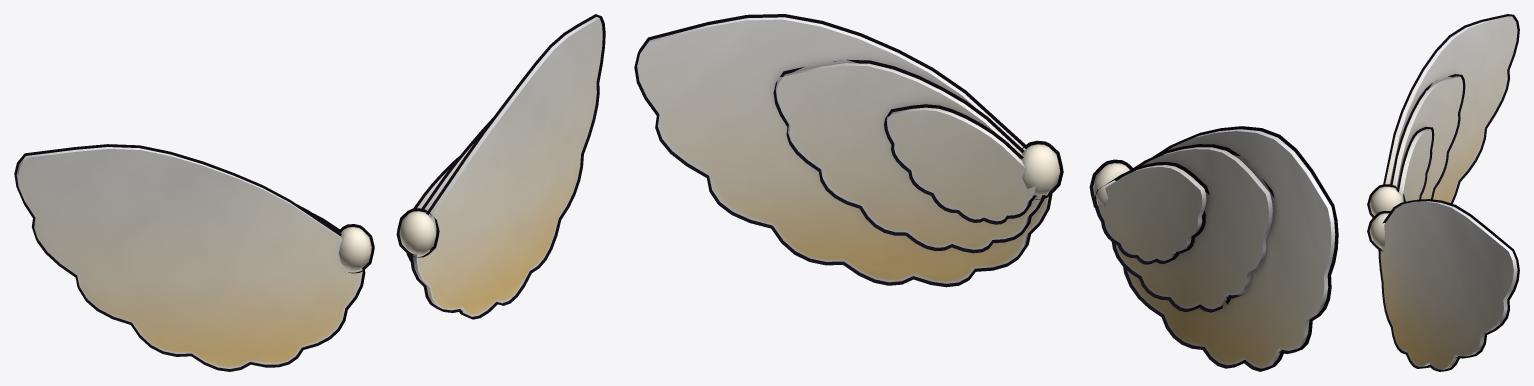
Rendered from AngelWings.fbx.
3 renders of one model, left to right at view 1: azimuth 30°, elevation 25°; view 2: azimuth 150°, elevation 25°; view 3: azimuth 270°, elevation 25°, orthographic. The views are drawn at different scales.
Parts seen in each view (by area): view 1: AngelWings, AngelWingsOutline; view 2: AngelWings, AngelWingsOutline; view 3: AngelWings, AngelWingsOutline.
Part boxes in pixels (x1,y1,x2,y2): AngelWings: (16,17,602,368); AngelWingsOutline: (14,14,605,371); AngelWings: (637,17,1335,368); AngelWingsOutline: (634,14,1338,371); AngelWings: (1369,16,1517,369); AngelWingsOutline: (1367,14,1519,371).
Bounding box in the file's own units: 364 × 132 × 97.07.
Materials: 2 (1 with a texture image).
